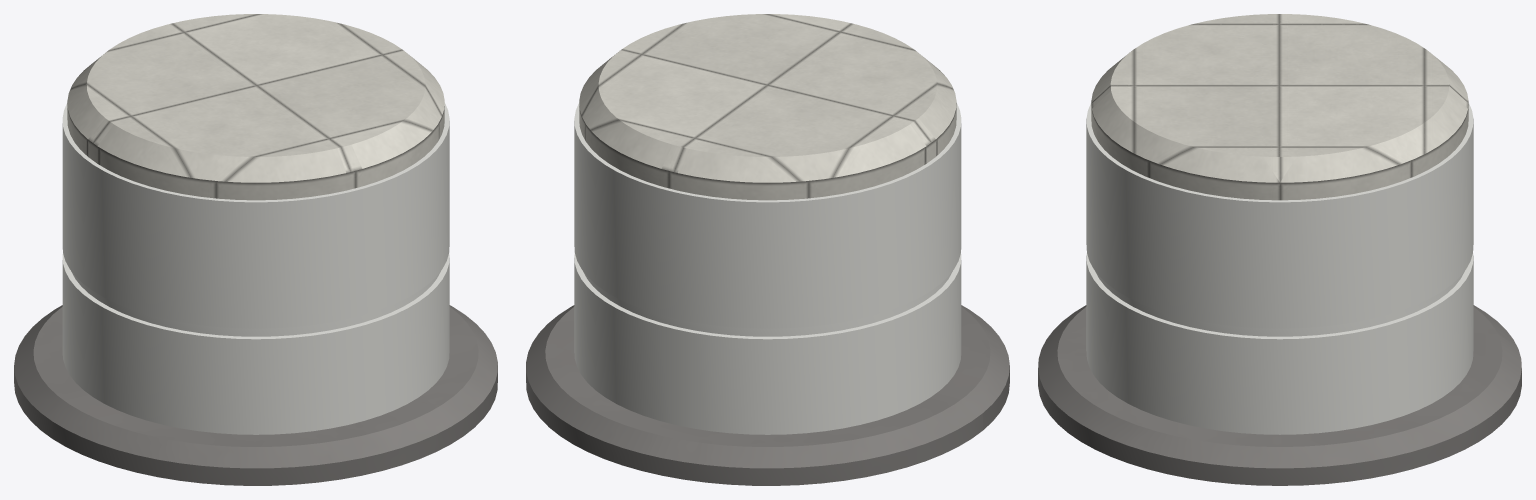
Rendered from ax_util_25_parachute_pack_s.glb.
3 views of the same model, side by side, from view 1: azimuth 30°, elevation 25°; view 2: azimuth 150°, elevation 25°; view 3: azimuth 270°, elevation 25° (orthographic).
Visible parts, largest first — view 1: canister, lid, recess_flange; view 2: canister, lid, recess_flange; view 3: canister, lid, recess_flange.
Boxes of the visible parts, x1,y1,x2,y2 form: canister: (62,102,449,434); lid: (67,14,444,200); recess_flange: (14,305,497,485); canister: (574,102,961,434); lid: (579,14,956,200); recess_flange: (526,305,1009,485); canister: (1086,103,1473,434); lid: (1091,14,1468,200); recess_flange: (1038,305,1521,485).
Size of the model in its own units: 0.4997 by 0.34 by 0.4999.
4 materials, 3 textured.
